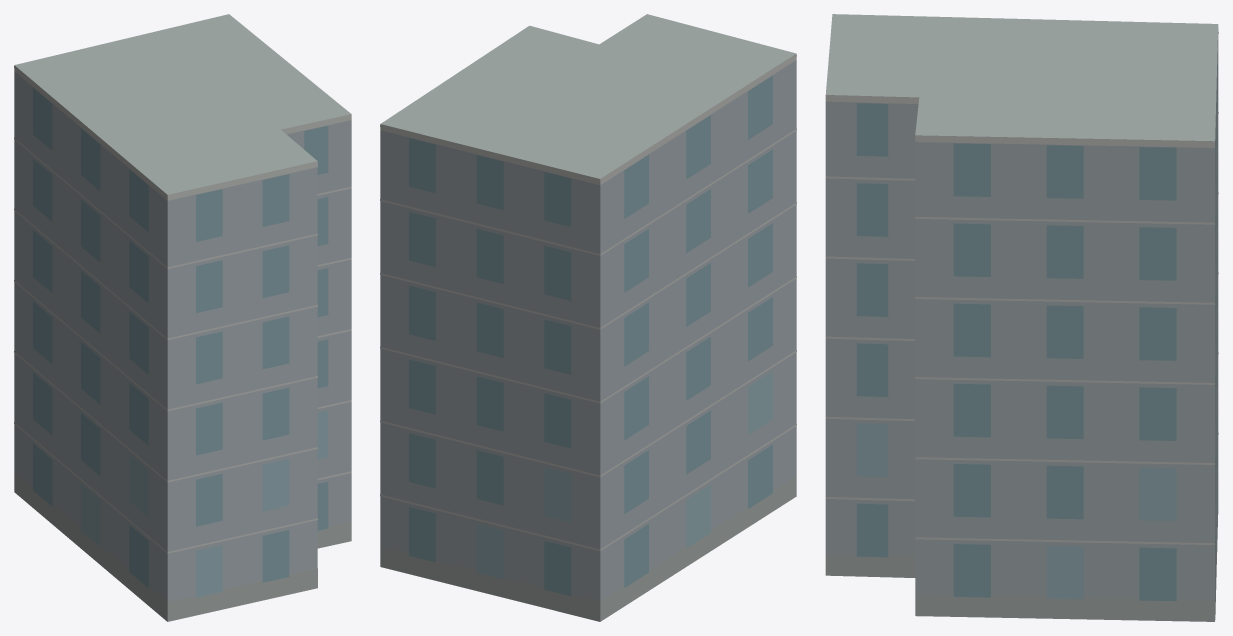
File: survey-upis-32460031.glb
3 views of the same model, side by side, from view 1: azimuth 30°, elevation 25°; view 2: azimuth 150°, elevation 25°; view 3: azimuth 270°, elevation 25° (orthographic). The views are drawn at different scales.
Visible parts, largest first — view 1: survey-upis-32460031.tmp; view 2: survey-upis-32460031.tmp; view 3: survey-upis-32460031.tmp.
Part boxes in pixels (x1,y1,x2,y2): survey-upis-32460031.tmp: (14, 14, 351, 621); survey-upis-32460031.tmp: (380, 14, 796, 621); survey-upis-32460031.tmp: (825, 14, 1218, 621).
Bounding box in the file's own units: 9.87 × 17.35 × 12.87.
